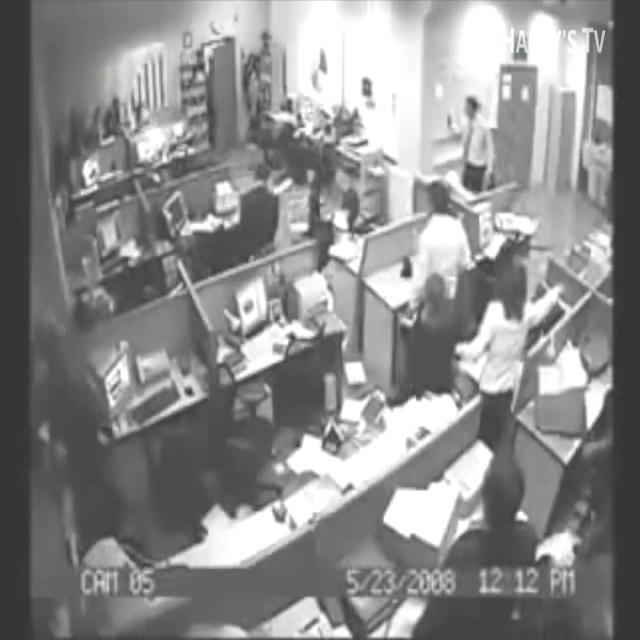fight: (410, 177, 462, 396)
